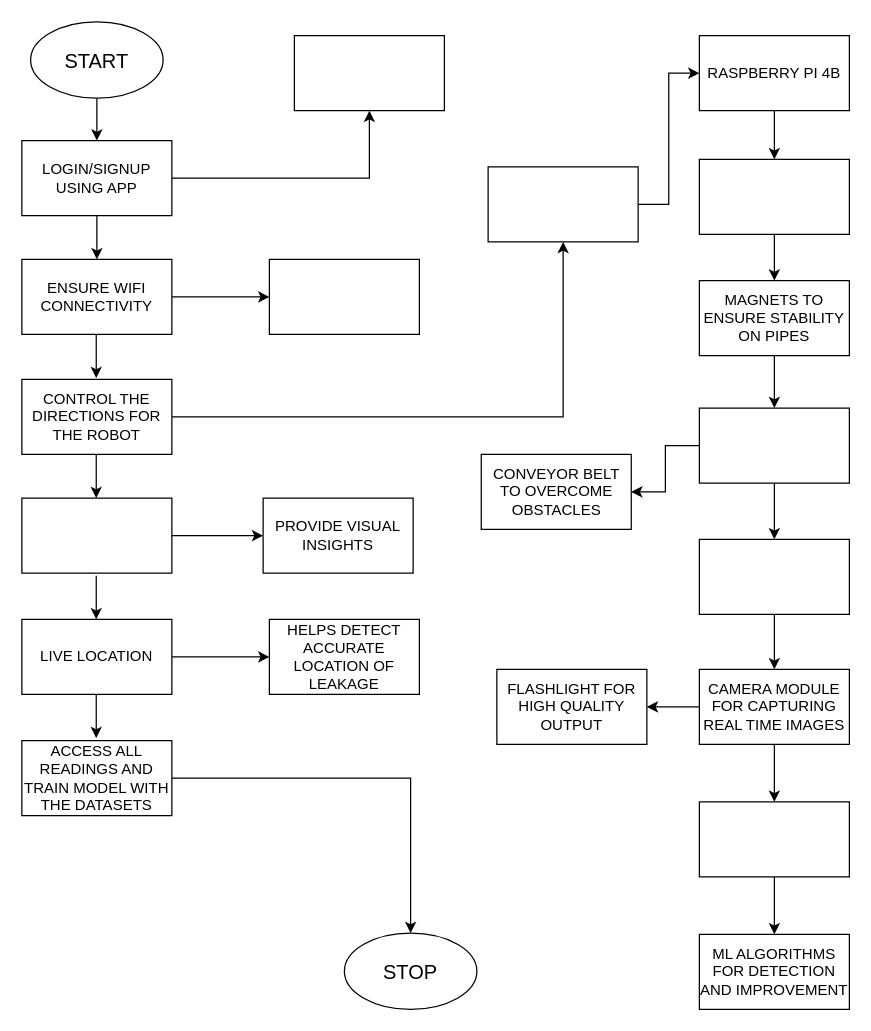
This 871x1031 diagram has some shape labels left out. Here are the shapes that lost their labels. From the top down, the centre of each, then its label:
At (368,72): "AUTHENTICATE USER VIA FIREBASE AUTHENTICATION".
At (562,204): "FIREBASE CONNECTIVITY".
At (773,196): "MOTORS HELP MOVE THE ROBOT USING ULTRASONIC SENSORS".
At (343,296): "COMPULSORY REQUIREMENT TO FETCH DATA".
At (773,445): "OBSTACLE DETECTION".
At (96,535): "ACCESS THE CAPTURED IMAGES".
At (773,576): "MQ 5 SENSOR FOR LPG GAS LEAKAGE DETECTION".
At (773,839): "TEMPERATURE AND HUMIDITY SENSOR".
